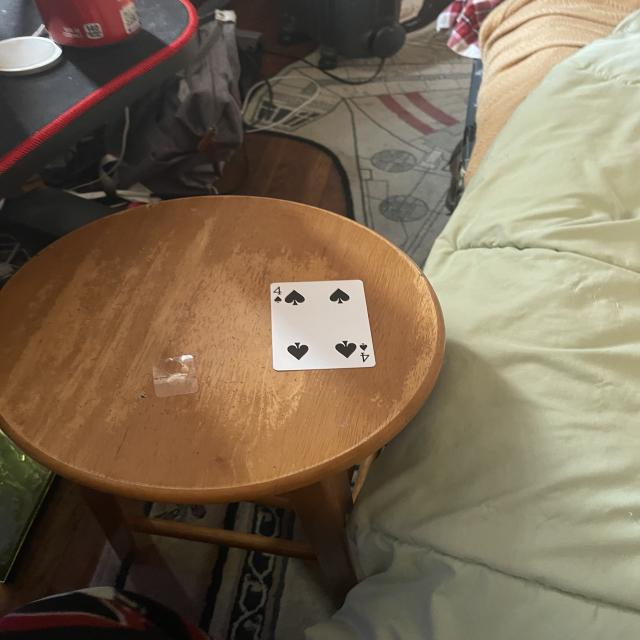4 of spades: (272, 280, 379, 372)
